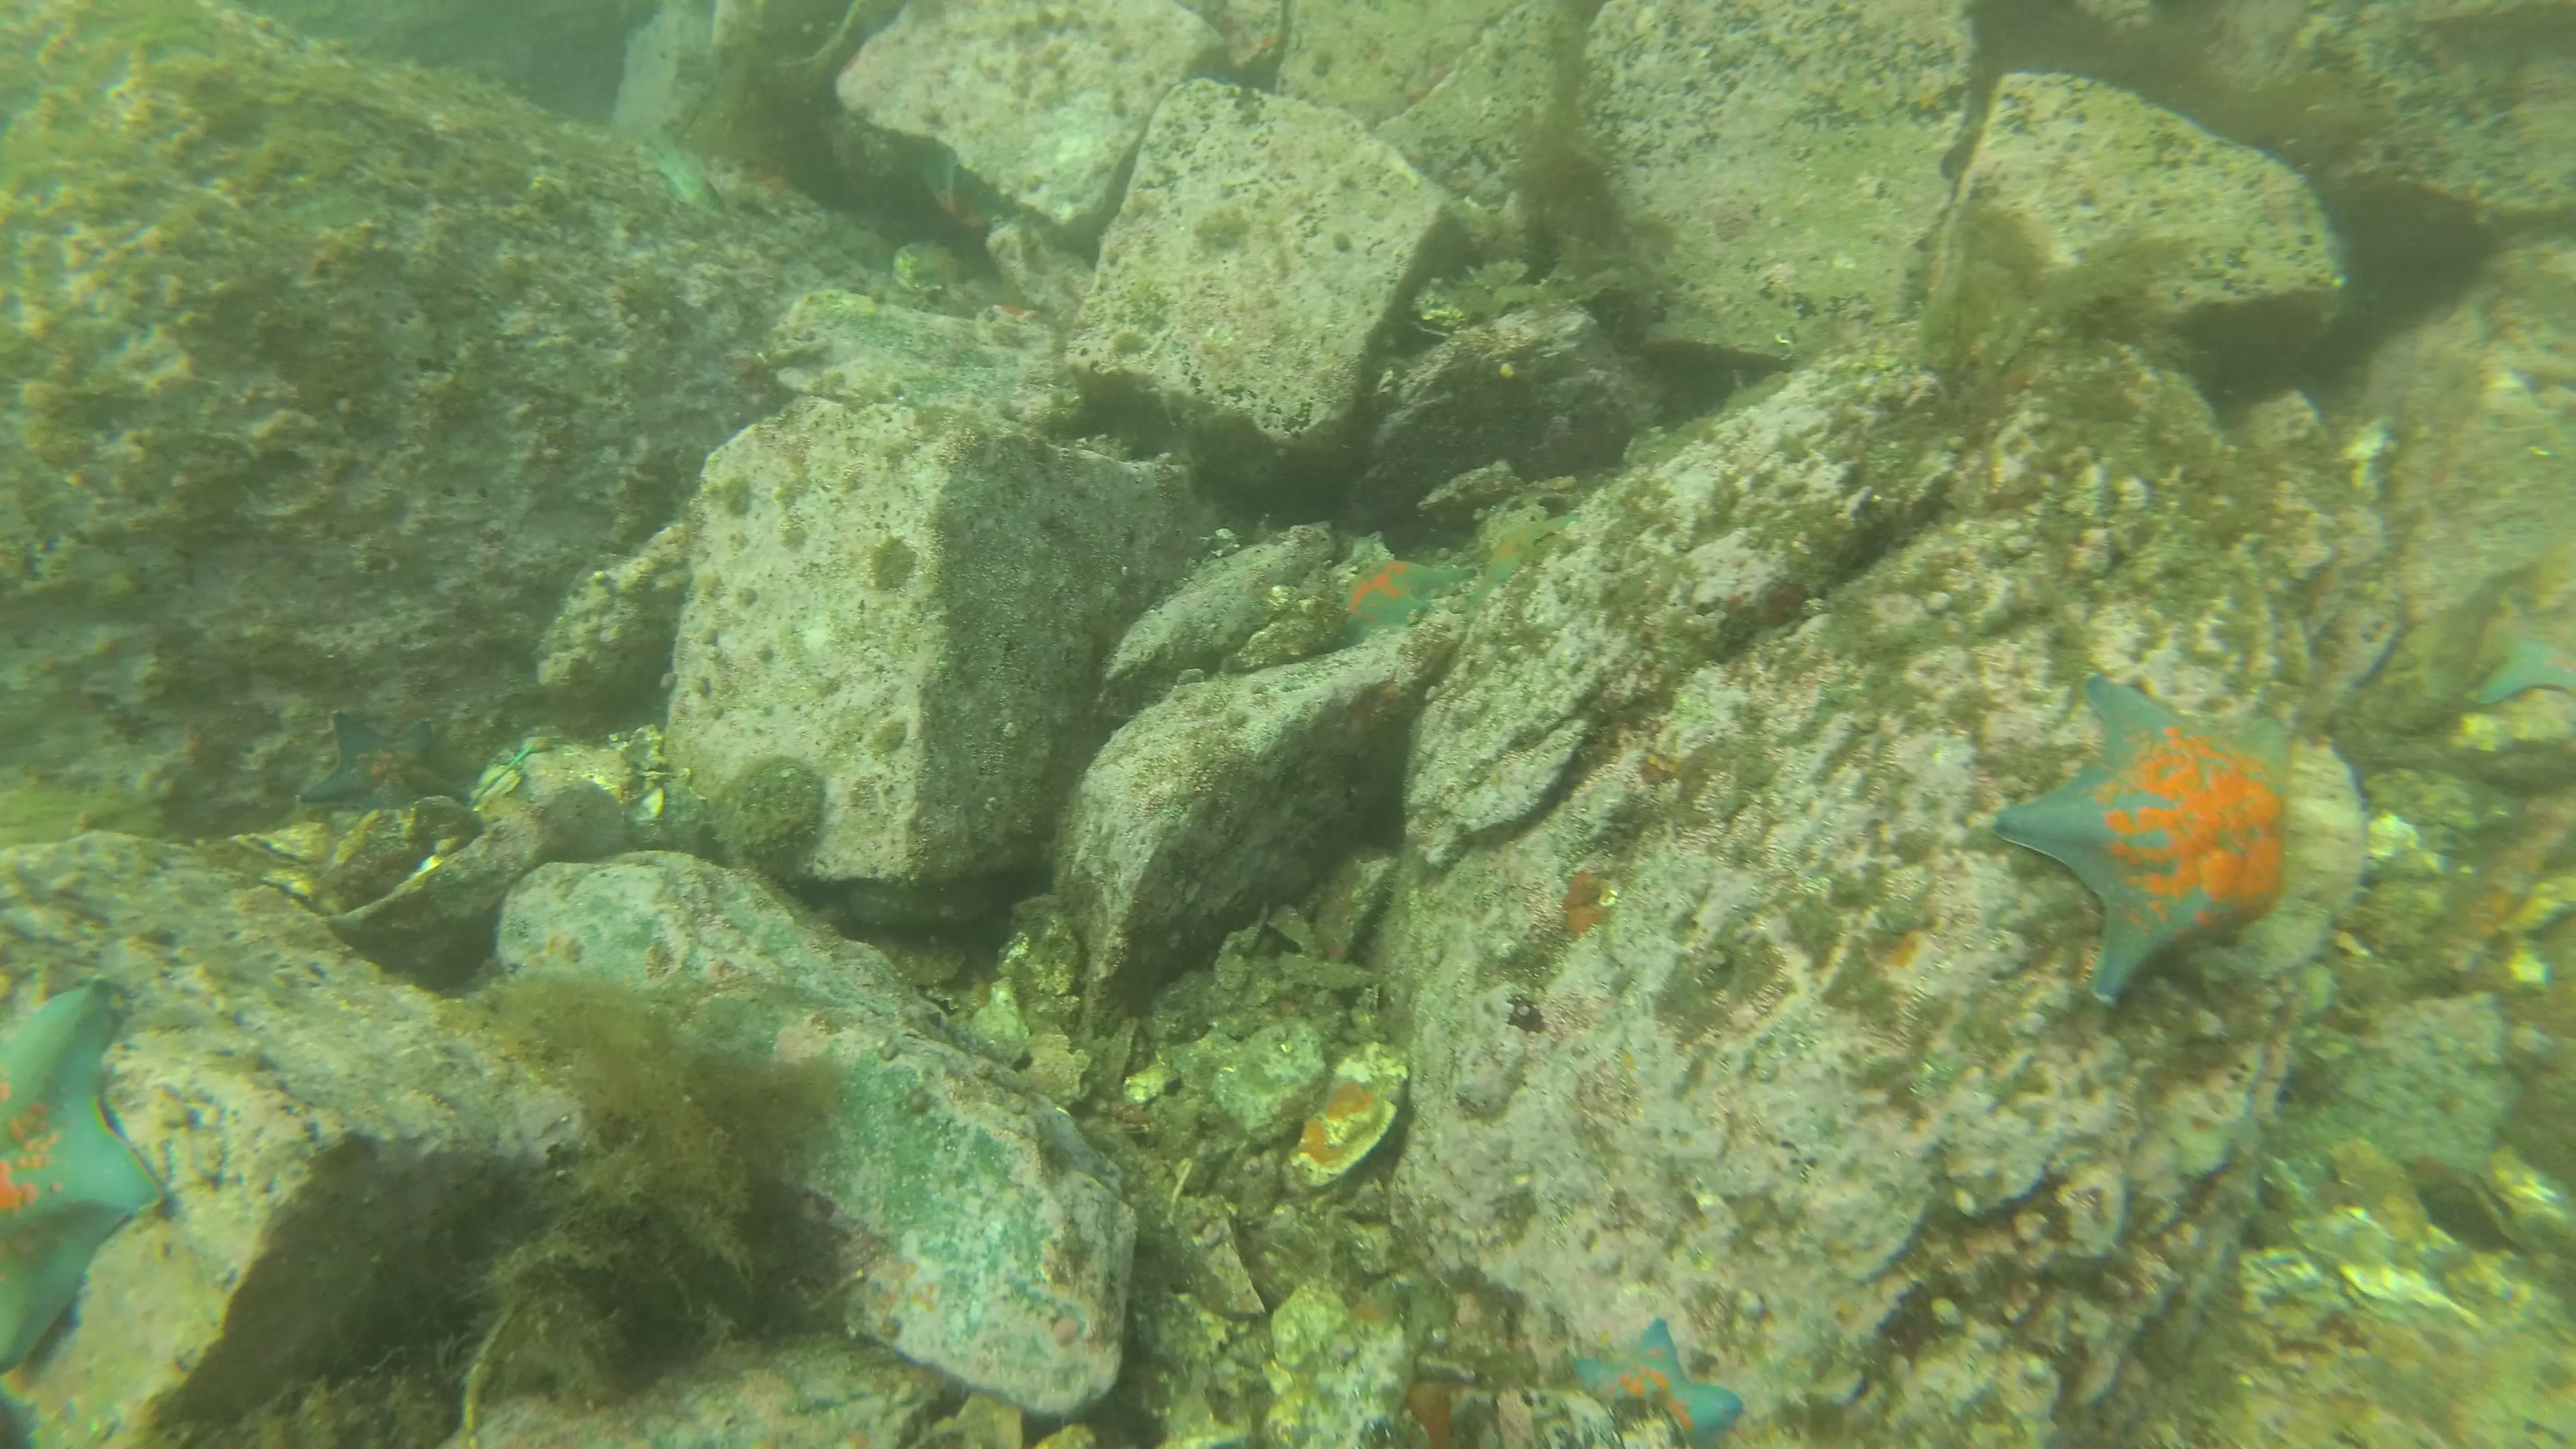starfish: (1982, 672, 2289, 1003), (0, 975, 161, 1371), (294, 709, 472, 840), (1568, 1322, 1743, 1449), (1460, 513, 1580, 612), (1322, 564, 1477, 635), (911, 145, 1010, 237), (2472, 639, 2576, 708)
